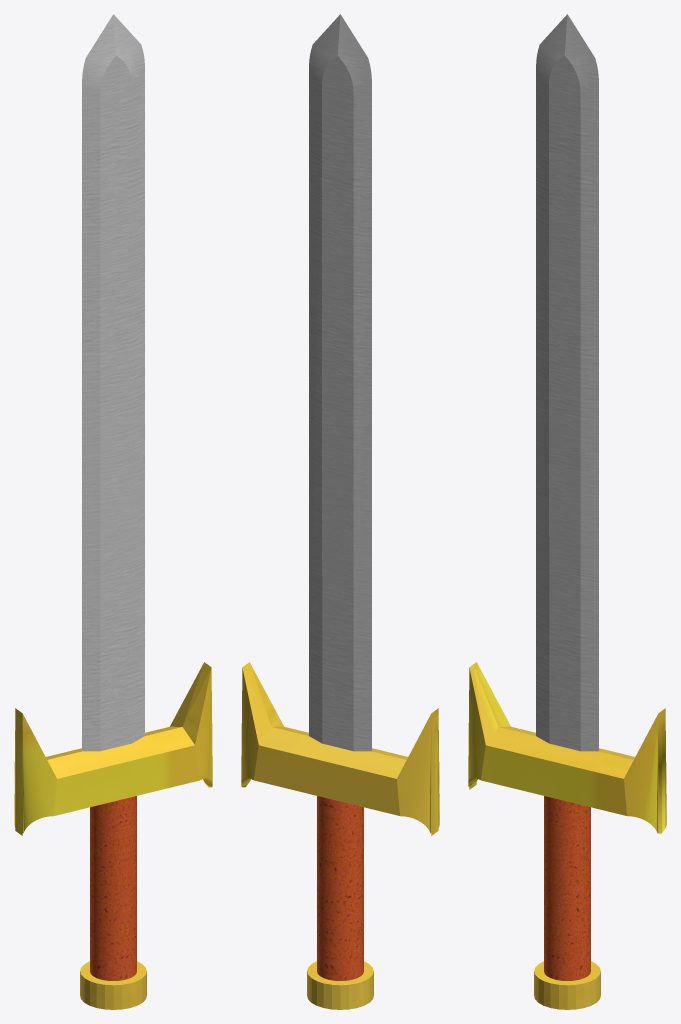
File: sword.gltf.gltf
3 views of the same model, side by side, from view 1: azimuth 30°, elevation 25°; view 2: azimuth 150°, elevation 25°; view 3: azimuth 330°, elevation 25° (orthographic).
Parts seen in each view (by area): view 1: root; view 2: root; view 3: root.
Part boxes in pixels (x1,y1,x2,y2): root: (14,14,212,1009); root: (241,14,439,1009); root: (468,14,666,1009).
Bounding box in the file's own units: 0.12 × 0.596 × 0.0368.
3 materials, 3 textured.
